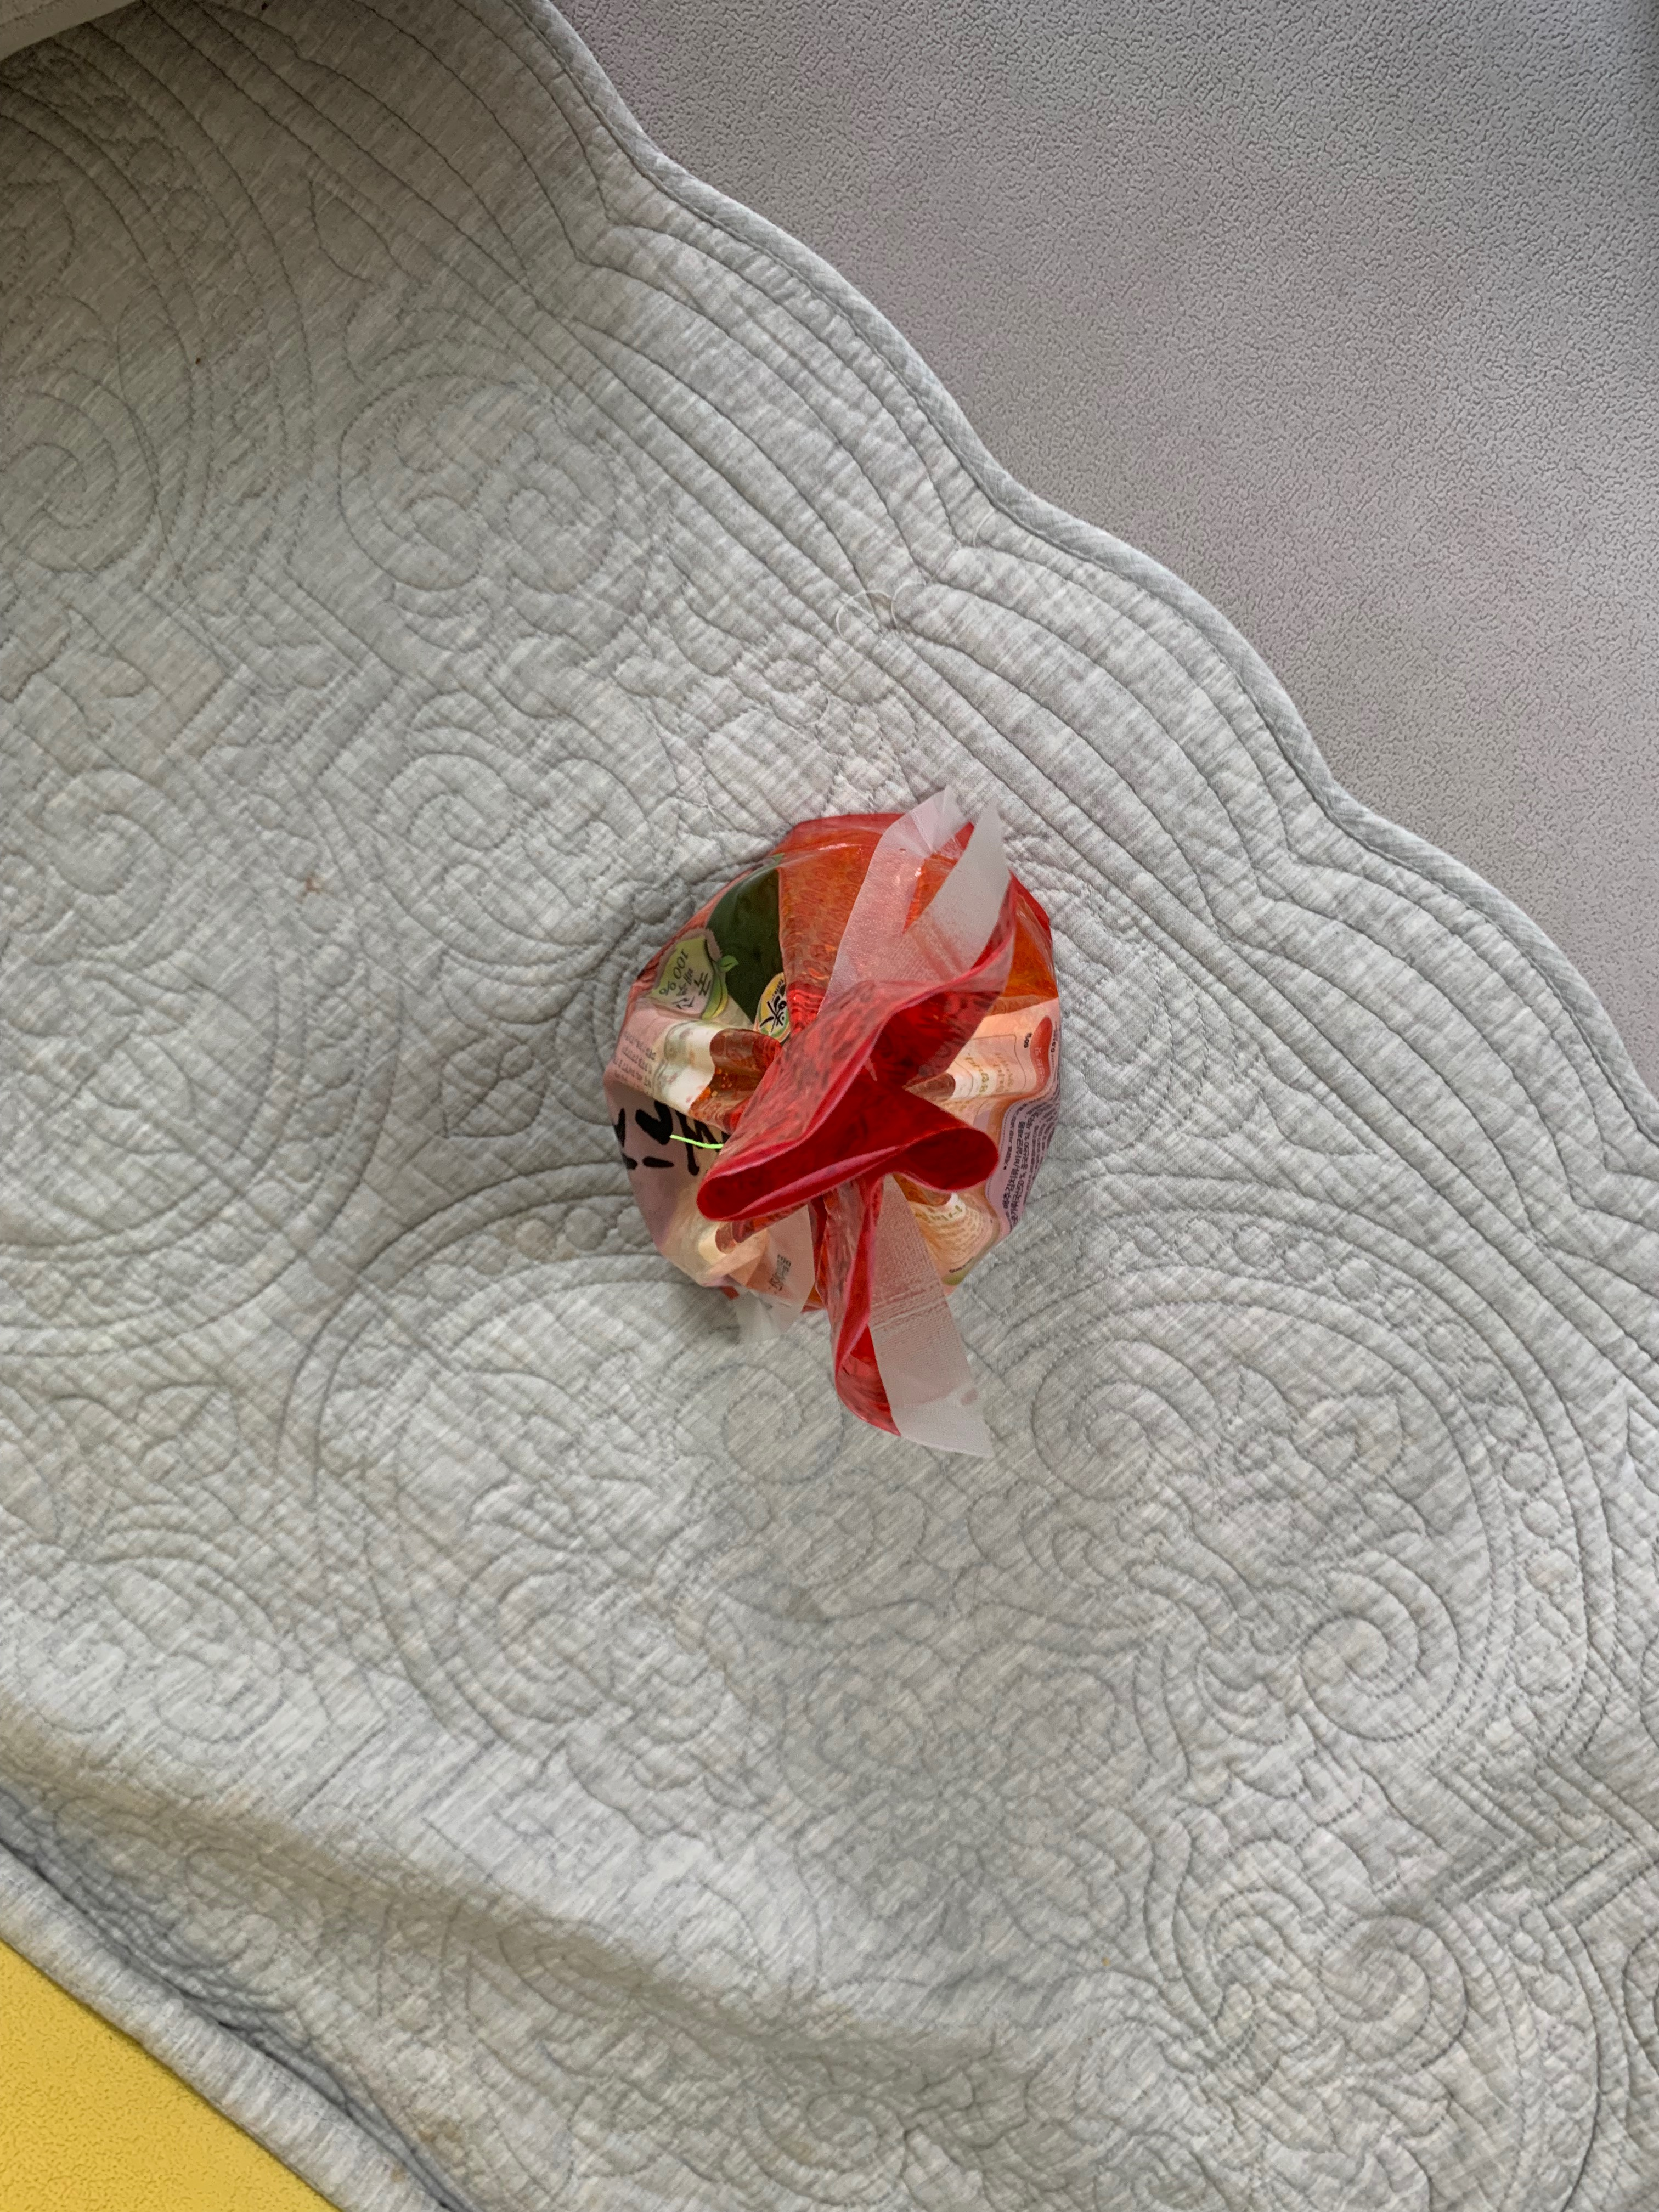kimchi: (619, 815, 1063, 1315)
